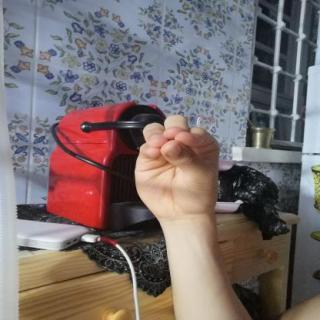HA: (118, 106, 241, 230)
